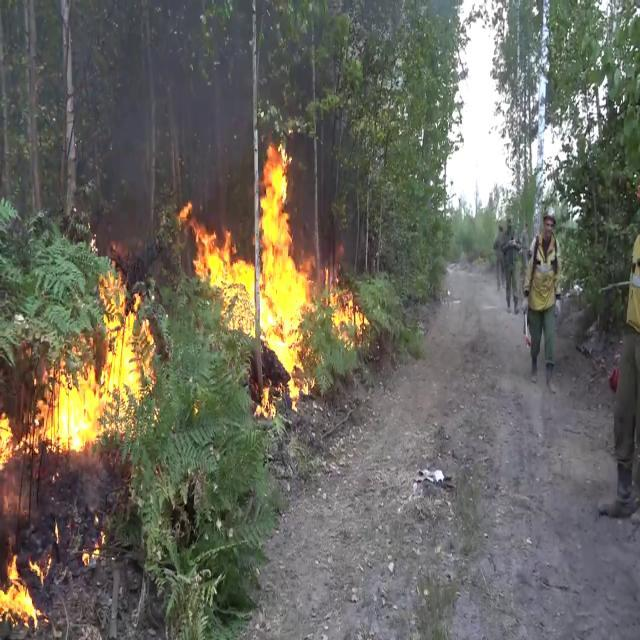Fire: (184, 138, 366, 397), (19, 242, 160, 459), (0, 548, 48, 628)
Smoke: (90, 1, 254, 245)
